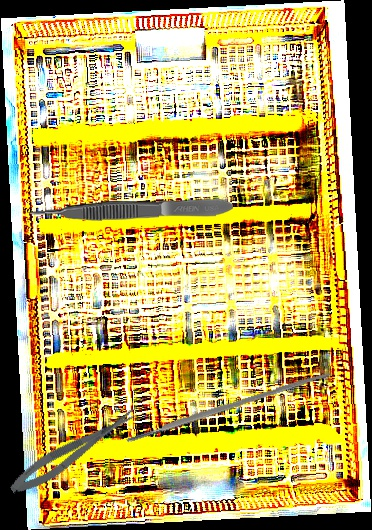Micro Scissor: (4, 403, 144, 501)
Scalpel Handle: (124, 369, 333, 444)
Tissue Forceps: (27, 197, 234, 222)
